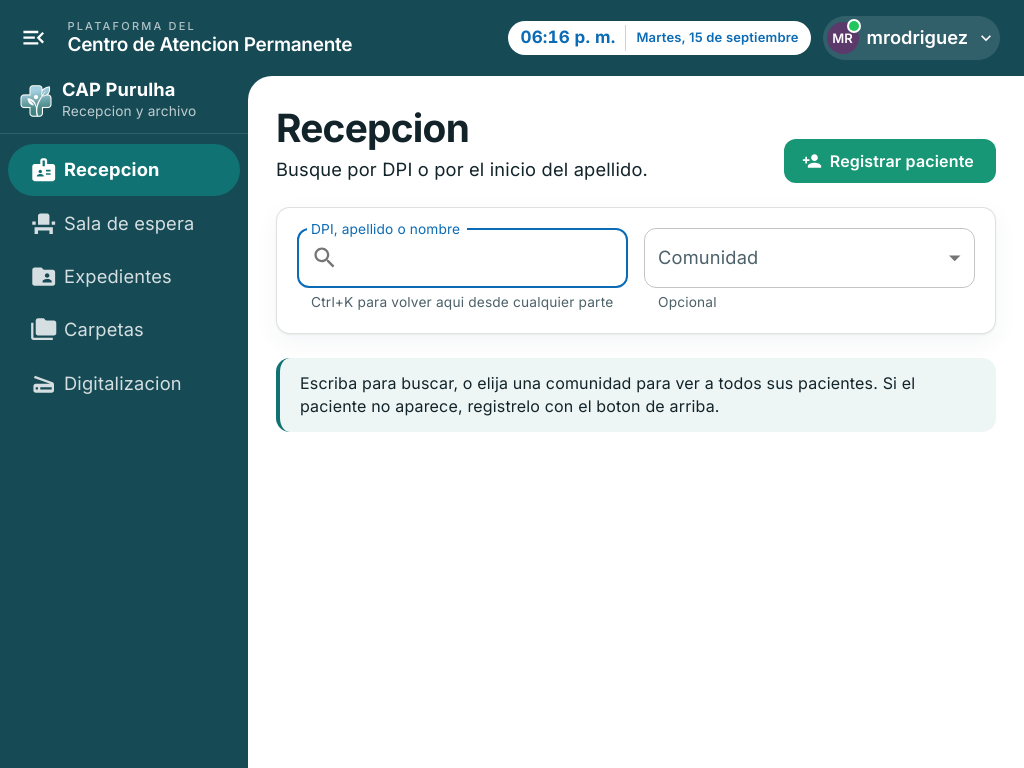
busqueda de recepcion › no consulta al servidor mientras el criterio es demasiado corto
The image size is (1024, 768).
Type "P" into the field labelled "DPI, apellido o nombre" at (487, 258), box [346,228,628,288]
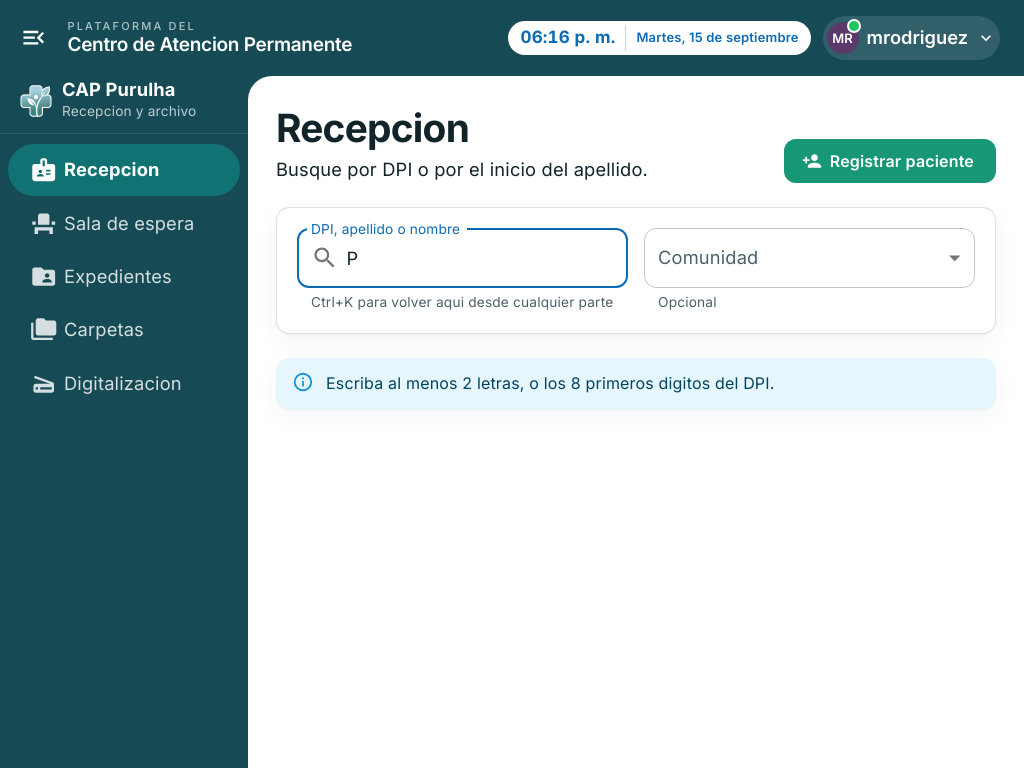
Check: the text "Escriba al menos 2 letras, o los 8 primeros digitos del DPI." is shown, box [326,374,774,394]
